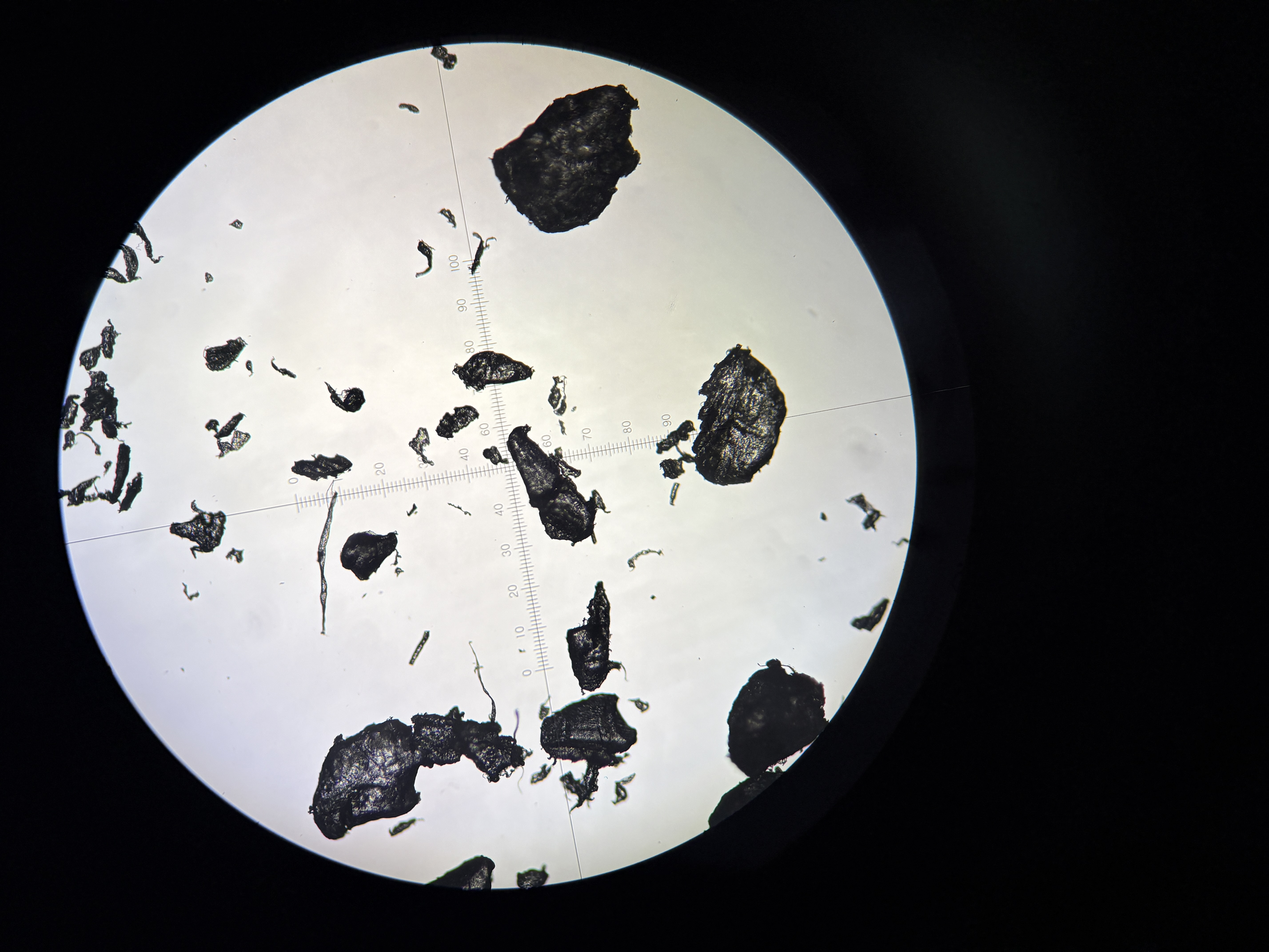microplastic: (487, 84, 642, 234), (307, 716, 435, 841), (691, 343, 788, 486), (725, 658, 830, 780), (539, 692, 638, 810), (505, 423, 597, 547), (564, 580, 628, 696), (446, 705, 534, 784), (707, 771, 786, 828), (409, 704, 466, 770), (451, 350, 536, 393), (316, 479, 339, 637), (168, 499, 228, 559), (339, 529, 403, 581), (468, 640, 497, 744), (423, 854, 496, 891), (79, 370, 119, 431), (97, 442, 131, 505), (100, 383, 133, 442), (655, 419, 697, 464), (290, 453, 353, 482), (435, 404, 481, 441), (559, 770, 596, 816), (845, 492, 887, 532), (203, 336, 249, 372), (130, 221, 165, 264), (323, 380, 367, 413), (467, 232, 498, 276), (850, 598, 890, 632), (117, 471, 144, 514), (66, 475, 101, 508), (408, 426, 435, 466), (215, 430, 251, 460), (62, 430, 102, 456), (626, 548, 665, 572), (100, 318, 122, 360), (213, 412, 247, 439), (515, 863, 549, 890), (548, 452, 582, 479), (119, 243, 142, 282), (407, 629, 431, 666), (610, 772, 636, 806), (415, 239, 437, 279), (58, 394, 81, 429), (430, 45, 459, 71), (388, 817, 425, 837), (552, 375, 569, 416), (270, 355, 297, 379), (482, 444, 510, 466), (79, 344, 101, 372), (659, 457, 685, 480), (591, 488, 613, 514), (547, 375, 563, 410), (529, 763, 553, 785), (100, 267, 128, 284), (437, 207, 457, 229), (181, 581, 201, 602), (627, 697, 650, 714), (446, 502, 472, 517), (225, 546, 245, 565), (538, 694, 552, 721), (83, 481, 99, 502), (669, 482, 681, 507), (398, 103, 421, 116), (204, 419, 220, 434), (102, 460, 113, 478), (406, 502, 418, 517), (245, 360, 255, 378), (890, 537, 910, 546), (58, 489, 74, 500), (228, 219, 244, 230), (557, 419, 567, 436), (553, 446, 564, 460), (394, 567, 405, 578), (472, 665, 485, 674), (205, 272, 214, 284), (819, 512, 828, 522), (591, 530, 597, 544), (774, 765, 783, 774), (518, 648, 527, 654), (818, 556, 826, 562), (571, 405, 577, 412), (361, 592, 367, 599), (650, 595, 657, 600)
